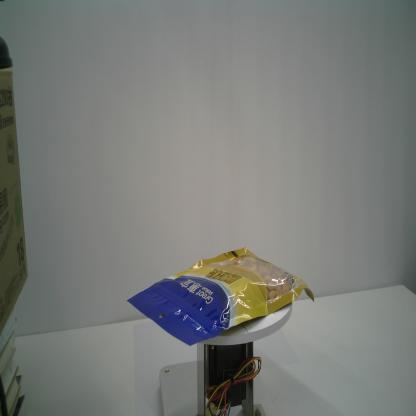Dried Fruit: (125, 246, 316, 348)
